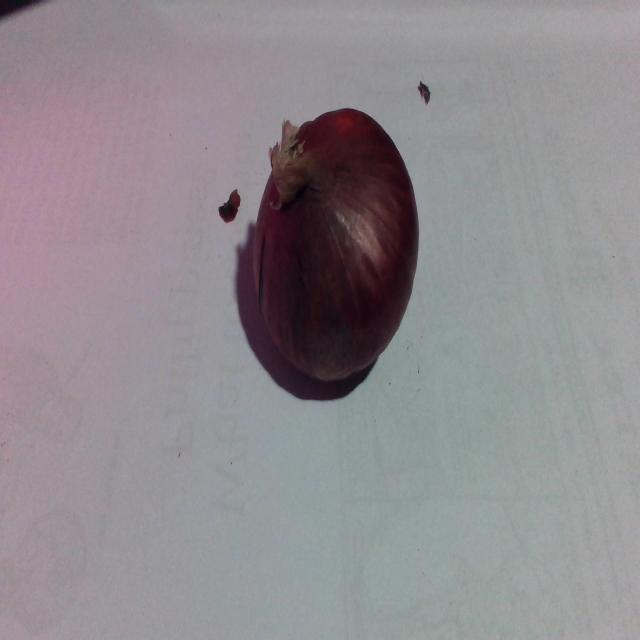onion: (250, 107, 420, 387)
